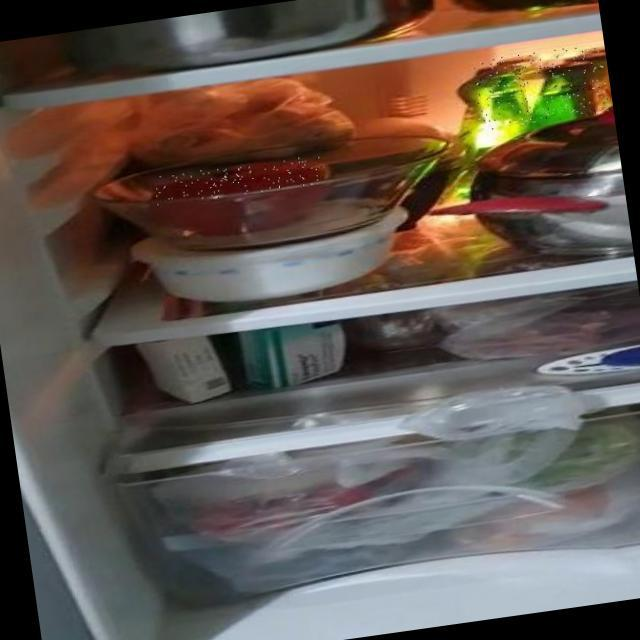mineral water: (471, 43, 610, 131)
tomato paste: (152, 154, 325, 207)
